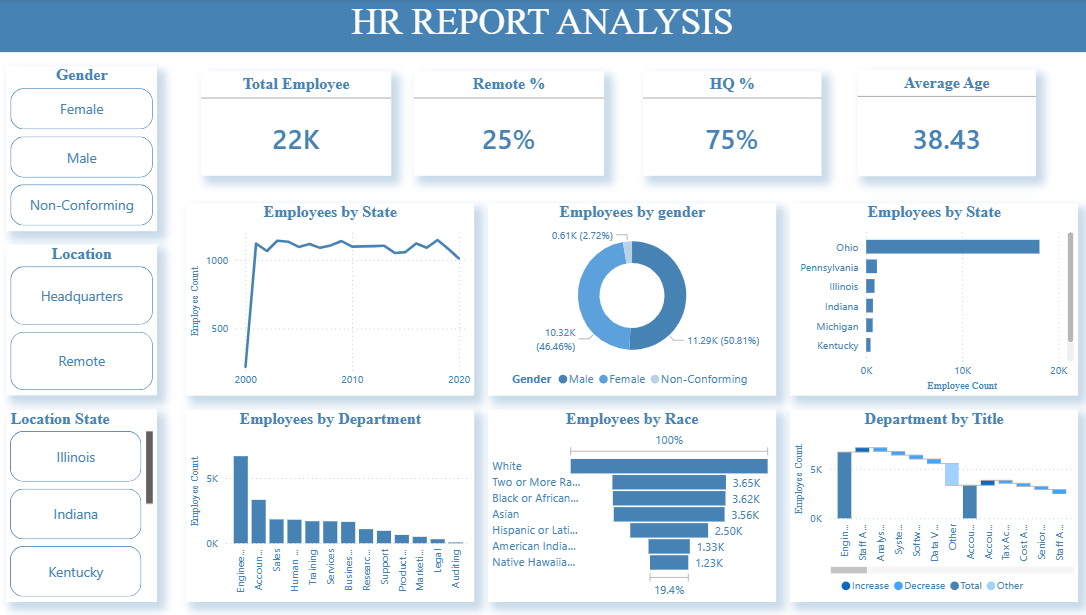

What the dashboard file says about the page in this screenshot:
{"tool":"powerbi","page":{"name":"Page 1","canvas":[1280,720],"ordinal":0},"visuals":[{"type":"cardVisual","fields":{"Data":["HR_analytics.Total Employees"]},"box":[242,86,222,122],"z":0},{"type":"cardVisual","fields":{"Data":["HR_analytics.Remote %"]},"box":[490,86,222,122],"z":1000},{"type":"cardVisual","fields":{"Data":["HR_analytics.Average age"]},"box":[1008,84,208,124],"z":2000},{"type":"cardVisual","fields":{"Data":["HR_analytics.HQ %"]},"box":[758,86,208,122],"z":3000},{"type":"lineChart","title":"Employees by State","fields":{"Category":["HR_analytics.hire_date.Variation.Date Hierarchy.Year"],"Y":["HR_analytics.Hire All"]},"box":[224,240,336,224],"z":4000},{"type":"donutChart","title":"Employees by gender","fields":{"Category":["HR_analytics.gender"],"Y":["CountNonNull(HR_analytics.id)"]},"box":[576,240,336,224],"z":5000},{"type":"clusteredBarChart","title":"Employees by State","fields":{"Category":["HR_analytics.location_state"],"Y":["CountNonNull(HR_analytics.id)"]},"box":[928,240,336,224],"z":6000},{"type":"clusteredColumnChart","title":"Employees by Department","fields":{"Category":["HR_analytics.department"],"Y":["CountNonNull(HR_analytics.id)"]},"box":[224,480,336,224],"z":7000},{"type":"funnel","title":"Employees by Race","fields":{"Category":["HR_analytics.race"],"Y":["CountNonNull(HR_analytics.id)"]},"box":[576,480,336,224],"z":8000},{"type":"waterfallChart","title":"Department by Title","fields":{"Breakdown":["HR_analytics.jobtitle"],"Category":["HR_analytics.department"],"Y":["HR_analytics.Total Employees"]},"box":[928,480,336,224],"z":9000},{"type":"advancedSlicerVisual","title":"Gender","fields":{"Values":["HR_analytics.gender"]},"box":[16,80,176,192],"z":10000},{"type":"advancedSlicerVisual","title":"Location","fields":{"Values":["HR_analytics.location"]},"box":[16,288,176,176],"z":11000},{"type":"advancedSlicerVisual","title":"Location State","fields":{"Values":["HR_analytics.location_state"]},"box":[16,480,176,224],"z":12000},{"type":"textbox","box":[0,0,1280,64],"z":13000}]}

Visuals, with their boxes in screenshot pixels (x1, y1, x2, y2), scaled from the page's 1280x720 canvas onto the 1086x615 screenshot:
cardVisual - HR_analytics.Total Employees: 205 73 394 178
cardVisual - HR_analytics.Remote %: 416 73 604 178
cardVisual - HR_analytics.Average age: 855 72 1032 178
cardVisual - HR_analytics.HQ %: 643 73 820 178
"Employees by State" lineChart: 190 205 475 396
"Employees by gender" donutChart: 489 205 774 396
"Employees by State" clusteredBarChart: 787 205 1072 396
"Employees by Department" clusteredColumnChart: 190 410 475 601
"Employees by Race" funnel: 489 410 774 601
"Department by Title" waterfallChart: 787 410 1072 601
"Gender" advancedSlicerVisual: 14 68 163 232
"Location" advancedSlicerVisual: 14 246 163 396
"Location State" advancedSlicerVisual: 14 410 163 601
textbox: 0 0 1085 55
